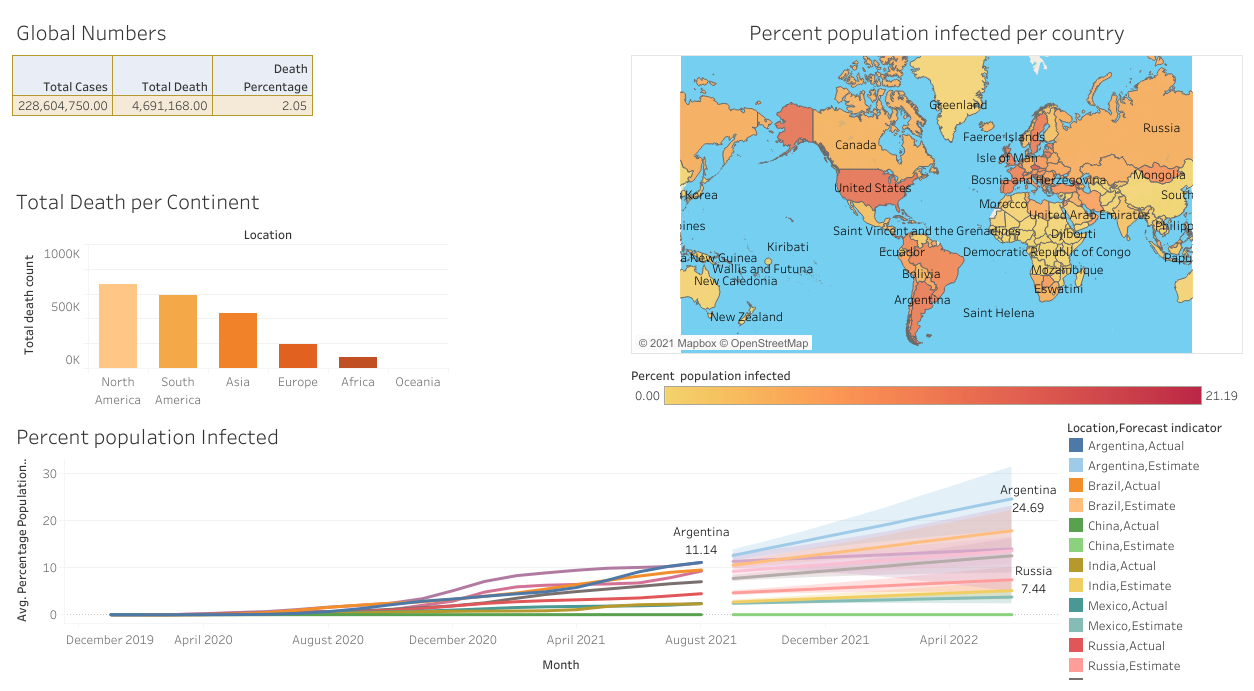

Layout of this report page (visuals, bound fields, positions):
{"tool":"tableau","page":{"name":"Dashboard 1","canvas":[1000,1000],"units":"permille","ordinal":0},"visuals":[{"type":"worksheet","title":"Sheet 1","mark":"Automatic","box":[7.4,10.2,492.6,244.9]},{"type":"worksheet","title":"Sheet 3","mark":"Automatic","box":[500,10.2,492.6,507.7]},{"type":"worksheet","title":"Sheet 2","mark":"Automatic","rows":["totaldeathcount"],"cols":["continent"],"box":[7.4,255.1,492.6,340.6]},{"type":"legend","title":"Sheet 3","param":"[federated.0s4q8h81ymj2dl186za4k1bmn41u].[sum:percentagepopulation:qk]","box":[500,517.9,492.6,77.8]},{"type":"worksheet","title":"Sheet 4","mark":"Automatic","rows":["percentage population"],"cols":["date"],"box":[7.4,595.7,838.4,394.1]},{"type":"legend","title":"Sheet 4","param":"[federated.1t7e1tr0t2viln16pvgfq0zt8v1h].[none:location:nk]\n[federated.1t7e1tr0t","box":[845.9,595.7,146.7,394.1]}]}

Visuals, with their boxes on the dashboard's canvas, which has no fixed pixel size, in thousandths of its width and height (x1, y1, x2, y2). These are canvas units, not pixel positions in the 1254x691 screenshot, which may show the page scaled, cropped or inside an application window:
"Sheet 1" worksheet: (x1=7, y1=10, x2=500, y2=255)
"Sheet 3" worksheet: (x1=500, y1=10, x2=993, y2=518)
"Sheet 2" worksheet: (x1=7, y1=255, x2=500, y2=596)
"Sheet 3" legend: (x1=500, y1=518, x2=993, y2=596)
"Sheet 4" worksheet: (x1=7, y1=596, x2=846, y2=990)
"Sheet 4" legend: (x1=846, y1=596, x2=993, y2=990)
